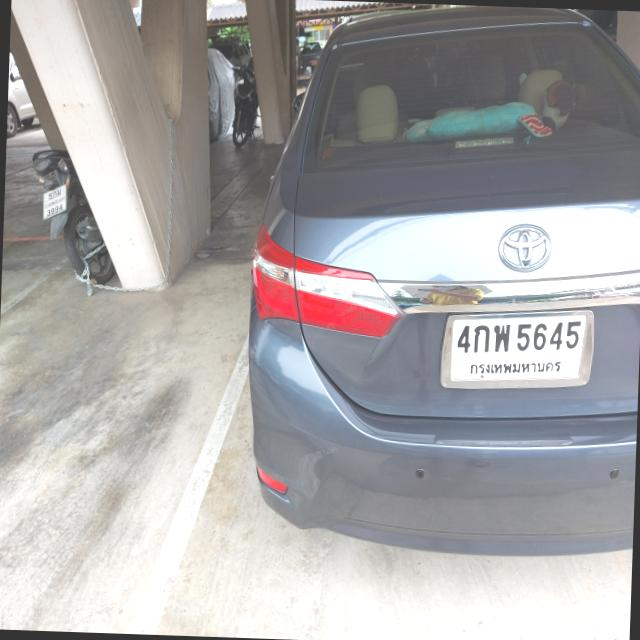license_plate: (440, 304, 596, 394), (42, 182, 67, 219)
